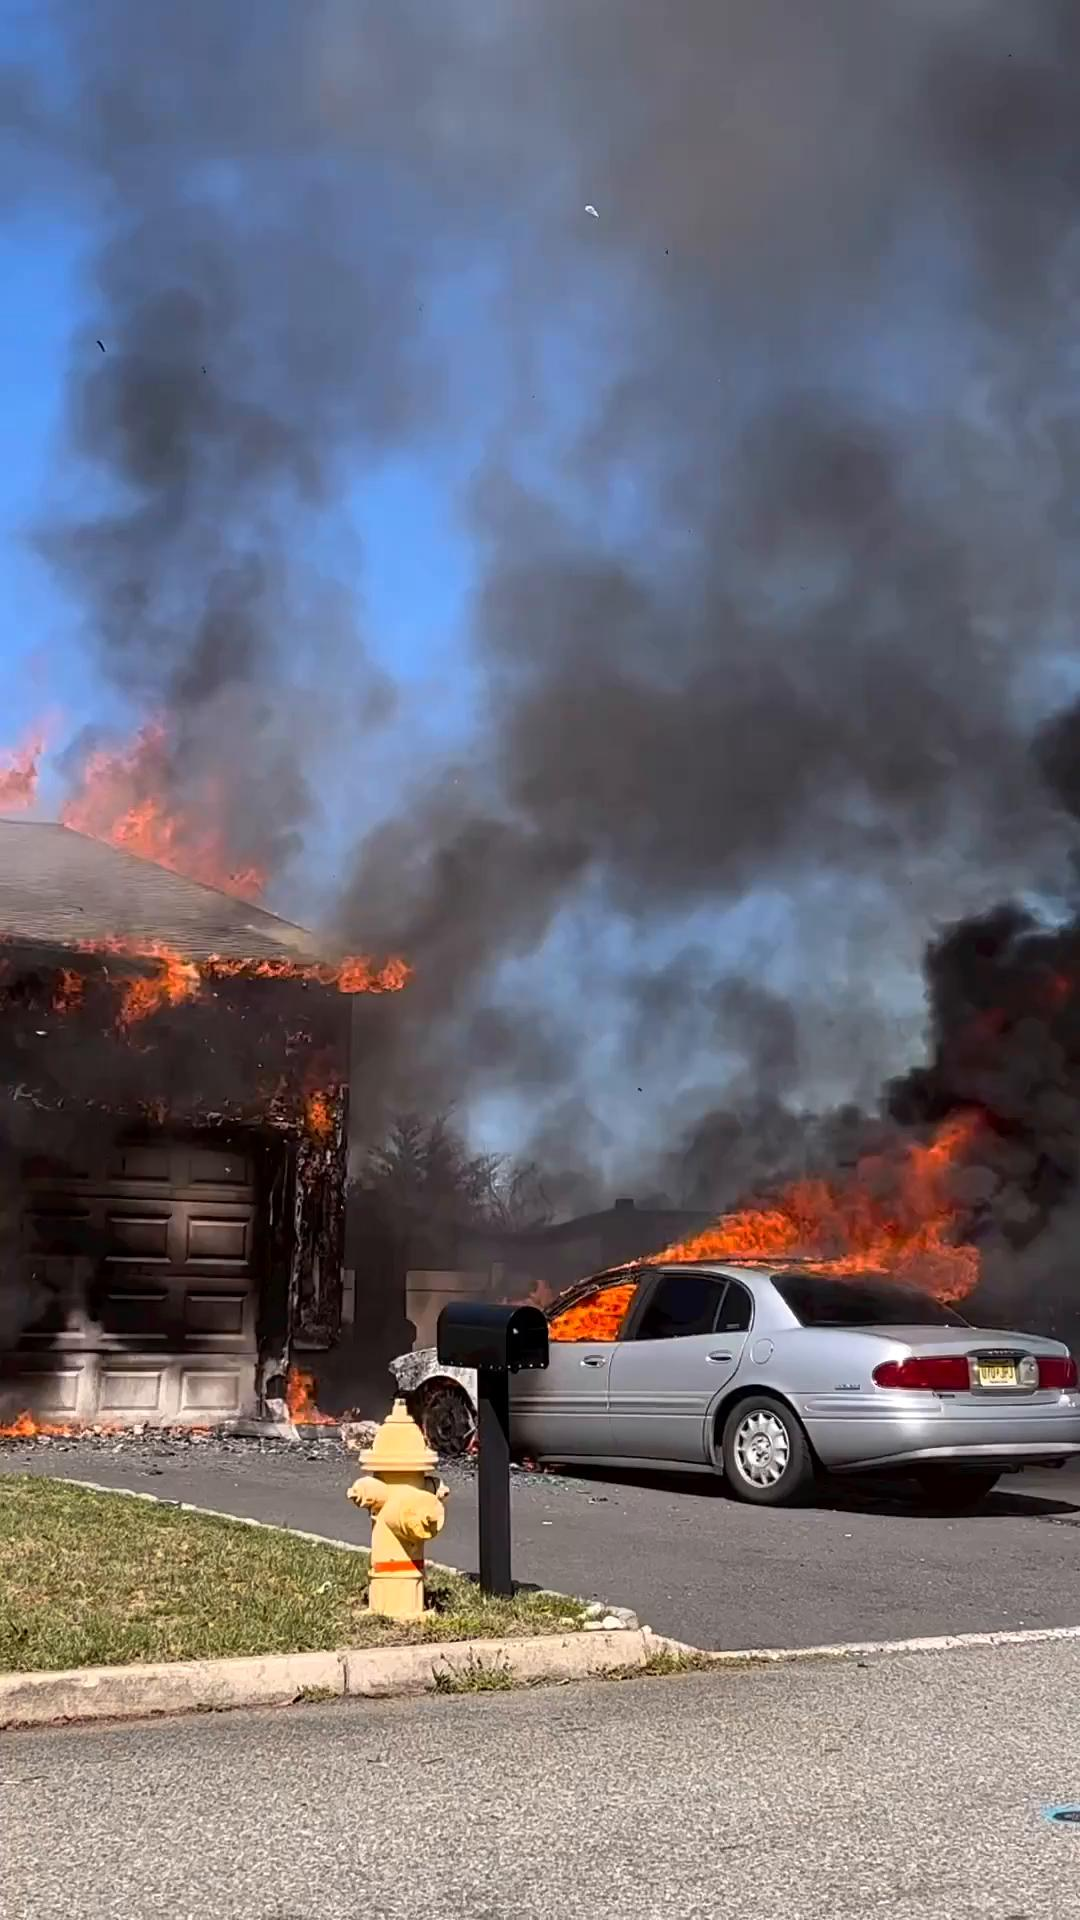fire: (725, 1118, 981, 1300), (61, 715, 179, 865), (202, 955, 411, 994), (179, 818, 262, 897), (120, 960, 202, 1029), (545, 1280, 637, 1341), (618, 1224, 724, 1273), (0, 727, 46, 820), (66, 935, 178, 961), (282, 1370, 335, 1425), (0, 1411, 78, 1444), (54, 973, 87, 1011), (309, 1098, 327, 1137)
smoke: (463, 0, 1080, 753), (349, 753, 1080, 1139), (36, 1, 397, 727), (397, 0, 463, 446), (479, 1141, 723, 1224), (179, 731, 323, 864), (982, 1138, 1080, 1319)
